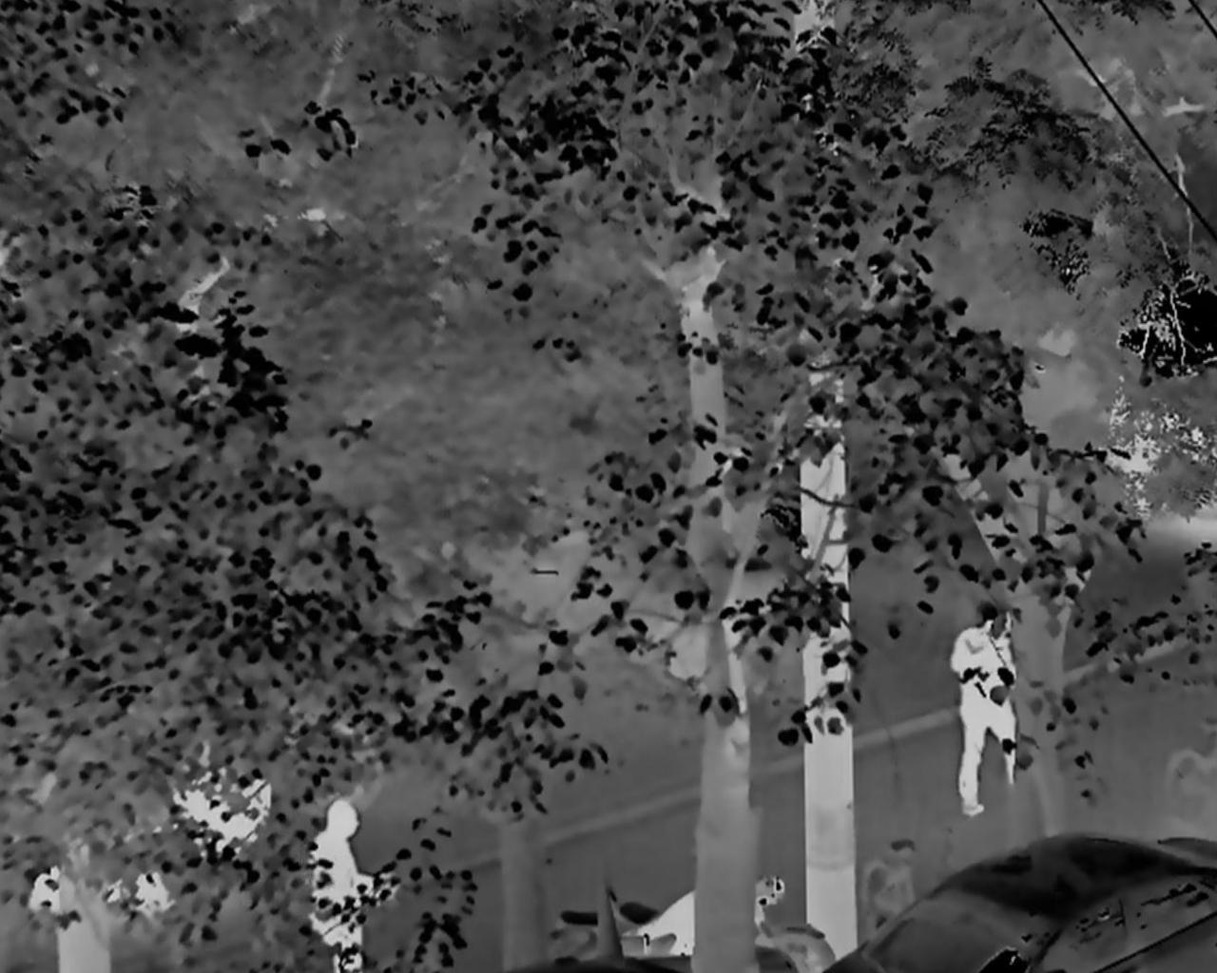person: (308, 795, 398, 973), (948, 613, 1016, 816)
